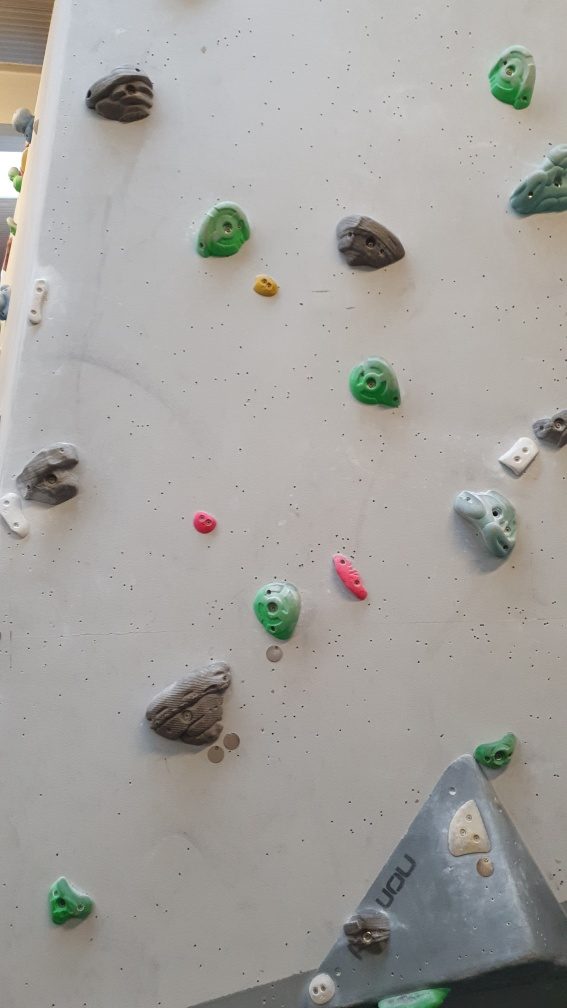Crimp: (329, 547, 371, 602), (499, 436, 539, 477), (27, 277, 56, 330)
Hand Start: (260, 641, 290, 667), (473, 853, 495, 881), (220, 729, 246, 752), (204, 744, 227, 764)
Jug: (145, 651, 228, 749), (11, 439, 86, 512), (80, 60, 159, 125), (455, 481, 519, 561), (333, 212, 409, 266), (192, 198, 254, 264), (488, 42, 539, 113), (253, 581, 302, 644), (352, 356, 402, 407), (471, 731, 516, 772)
Pinch: (188, 511, 219, 538)
